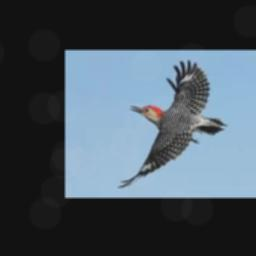Woodpecker: (116, 60, 228, 188)
